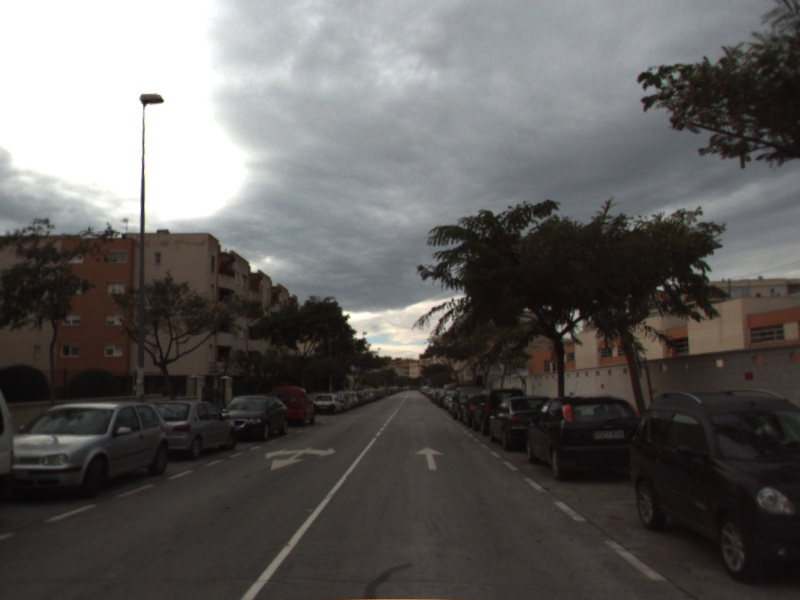STRAIGHT: (414, 444, 445, 471)
